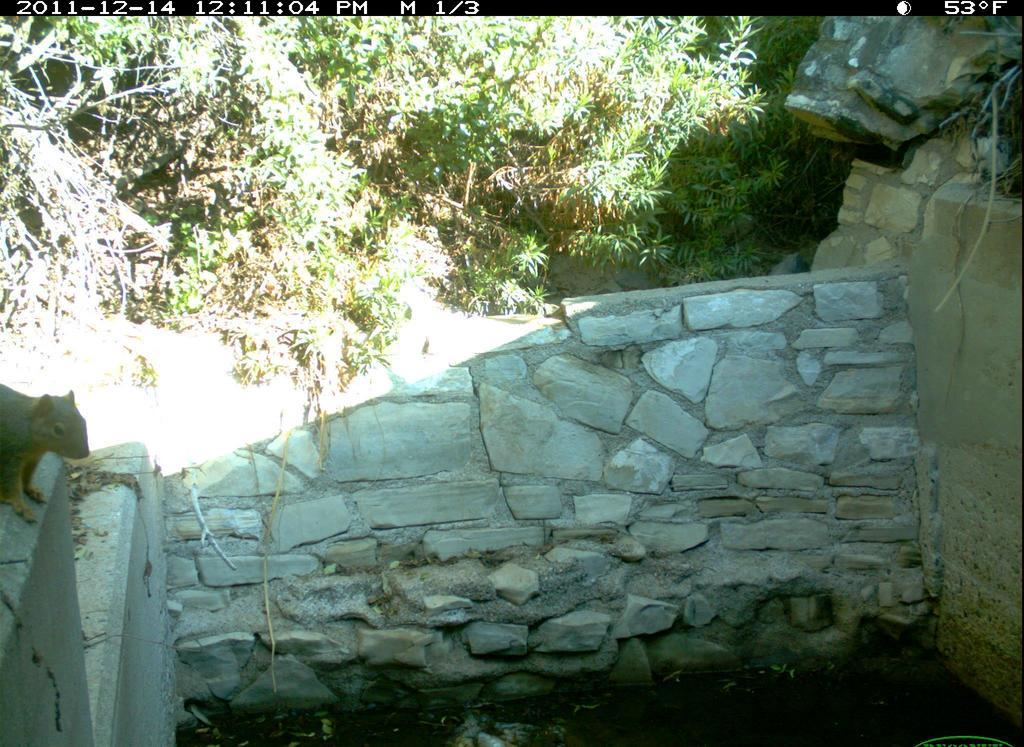squirrel: (1, 372, 98, 531)
